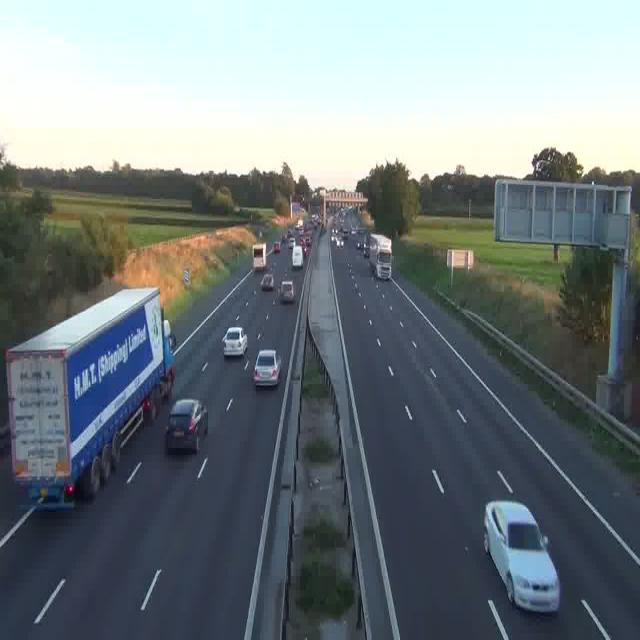bus: (369, 233, 392, 278), (252, 244, 268, 272)
car: (483, 500, 559, 610), (165, 399, 209, 453), (254, 349, 280, 386), (224, 326, 248, 356), (260, 272, 274, 292), (280, 282, 294, 301), (272, 242, 280, 253), (334, 234, 342, 245), (360, 242, 368, 253)
truck: (5, 287, 175, 504), (290, 244, 304, 268)
